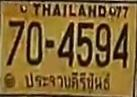0: (25, 20, 42, 64)
4: (57, 21, 73, 66), (112, 22, 128, 67)
5: (76, 22, 93, 66)
7: (7, 20, 24, 65)
9: (94, 22, 110, 66)
PKN: (22, 70, 114, 94)
